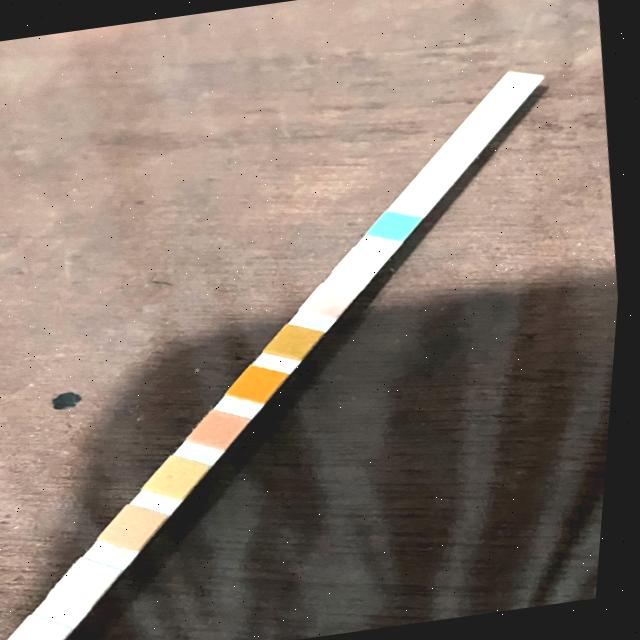Bilirubin: (348, 252, 384, 276)
Blood: (245, 371, 279, 397)
Glucose: (380, 215, 415, 238)
Ketone: (316, 288, 349, 312)
Leukocytes: (24, 627, 63, 640)
Nitrite: (74, 566, 115, 598)
Protein: (164, 465, 200, 493)
SpGravity: (281, 329, 316, 355)
Urobilinogen: (121, 514, 160, 542)
pH: (207, 416, 244, 442)
